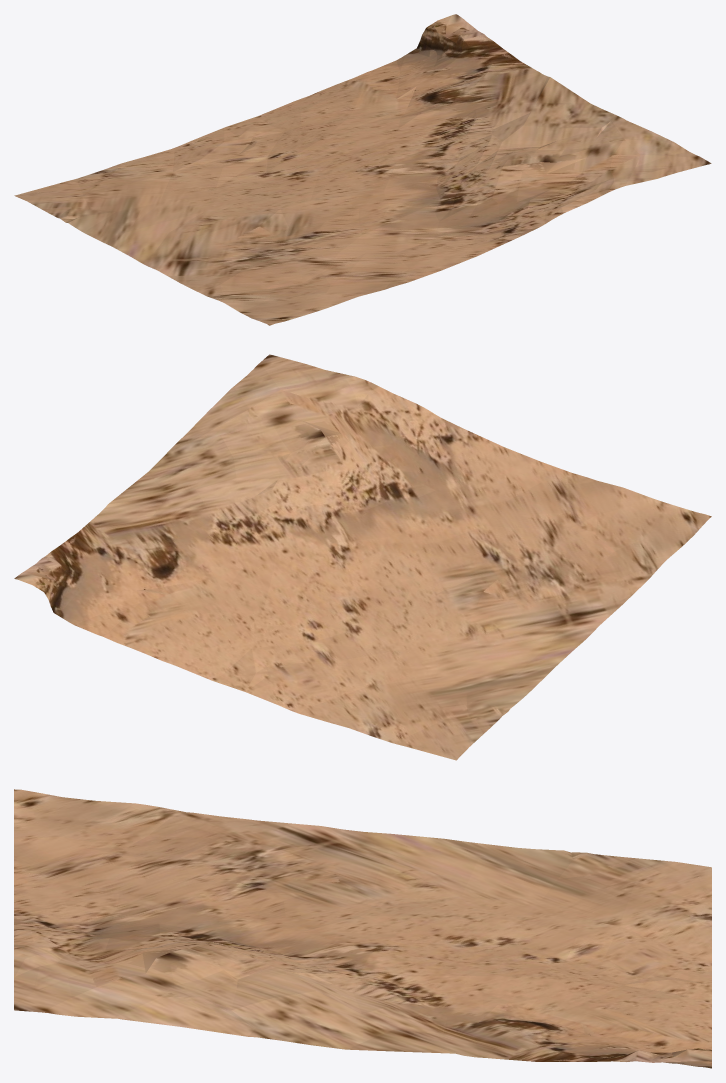
The picture shows the model from 3 angles, top to bottom: view 1: azimuth 30°, elevation 25°; view 2: azimuth 150°, elevation 25°; view 3: azimuth 270°, elevation 25°; orthographic projection. The views are drawn at different scales.
Bounding box in the file's own units: 2.09 × 0.5016 × 2.09.
3 materials, 3 textured.
